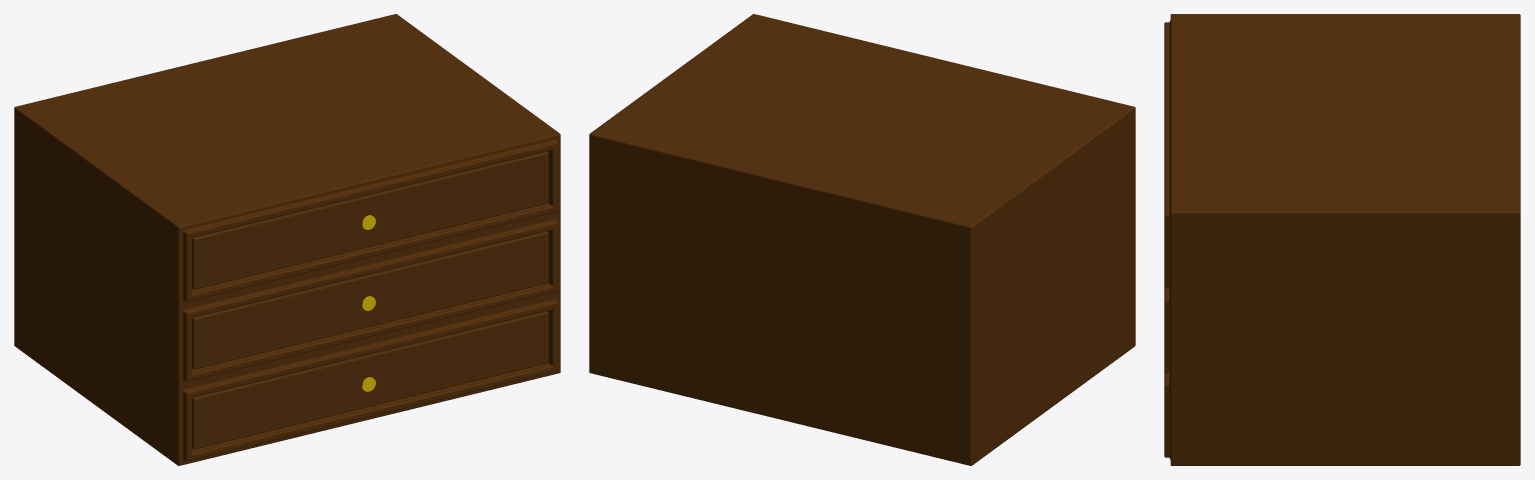
The model's file is dresser.glb.
3 renders of one model, left to right at view 1: azimuth 30°, elevation 25°; view 2: azimuth 150°, elevation 25°; view 3: azimuth 270°, elevation 25°, orthographic. The views are drawn at different scales.
Parts seen in each view (by area): view 1: Cube.031; view 2: Cube.031; view 3: Cube.031.
Boxes of the visible parts, x1=… form: Cube.031: x1=14, y1=14, x2=560, y2=465; Cube.031: x1=589, y1=14, x2=1135, y2=465; Cube.031: x1=1164, y1=14, x2=1520, y2=465.
Bounding box in the file's own units: 1.62 × 0.9712 × 1.23.
